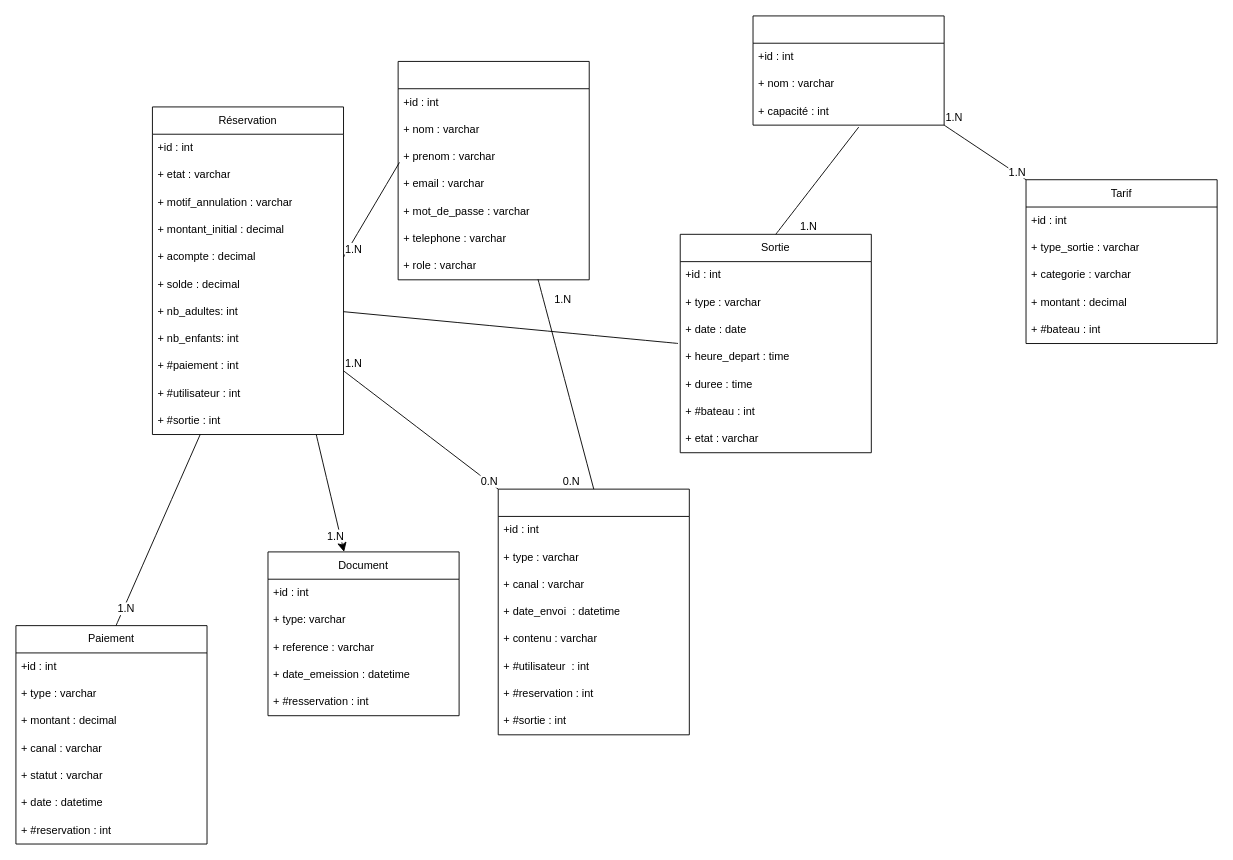
The diagram is 1233 pixels wide and 860 high, and some of its shapes have lost their labels. The shapes that lost their labels are listed below. From the top down, each one's box as (x1, y1, x2, y2) in pixels, then its label:
(752, 15, 944, 125): B ateau
(397, 61, 589, 280): Utilisateur
(497, 488, 689, 735): Notification
